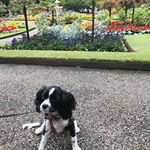puppy: (22, 83, 86, 150)
